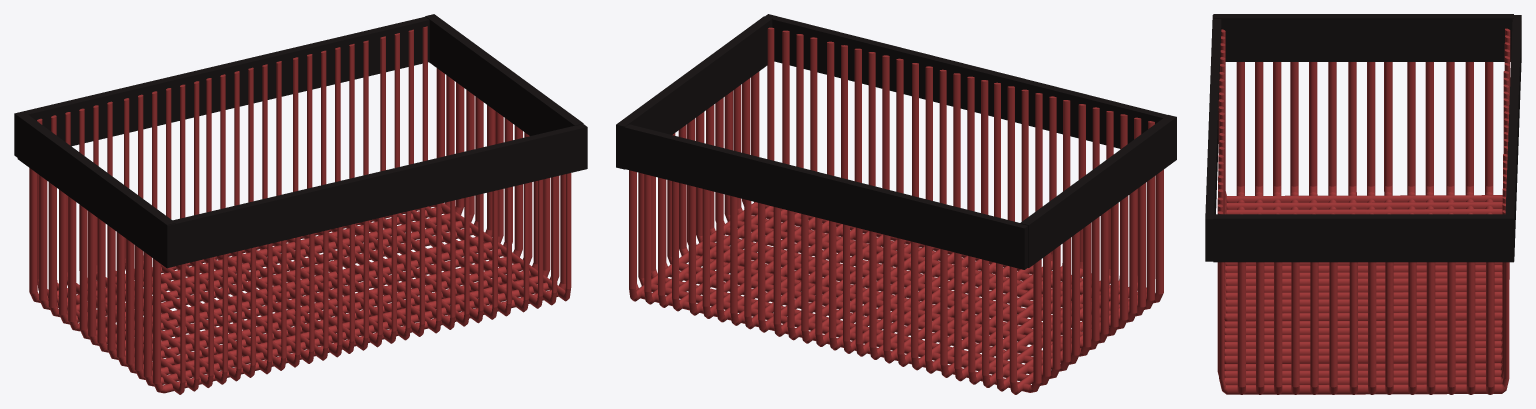
The model's file is basket.fbx.
The picture shows the model from 3 angles, left to right: view 1: azimuth 30°, elevation 25°; view 2: azimuth 150°, elevation 25°; view 3: azimuth 270°, elevation 25°; orthographic projection.
Visible parts, largest first — view 1: group5_pasted__group_pasted__pasted__pCylinder4; view 2: group5_pasted__group_pasted__pasted__pCylinder4; view 3: group5_pasted__group_pasted__pasted__pCylinder4.
Boxes of the visible parts, box(x1,y1,x2,y2) form: group5_pasted__group_pasted__pasted__pCylinder4: box(14, 14, 587, 394); group5_pasted__group_pasted__pasted__pCylinder4: box(616, 14, 1176, 394); group5_pasted__group_pasted__pasted__pCylinder4: box(1205, 14, 1521, 394).
Size of the model in its own units: 46.83 by 19.4 by 30.6.
1 material, 1 textured.
